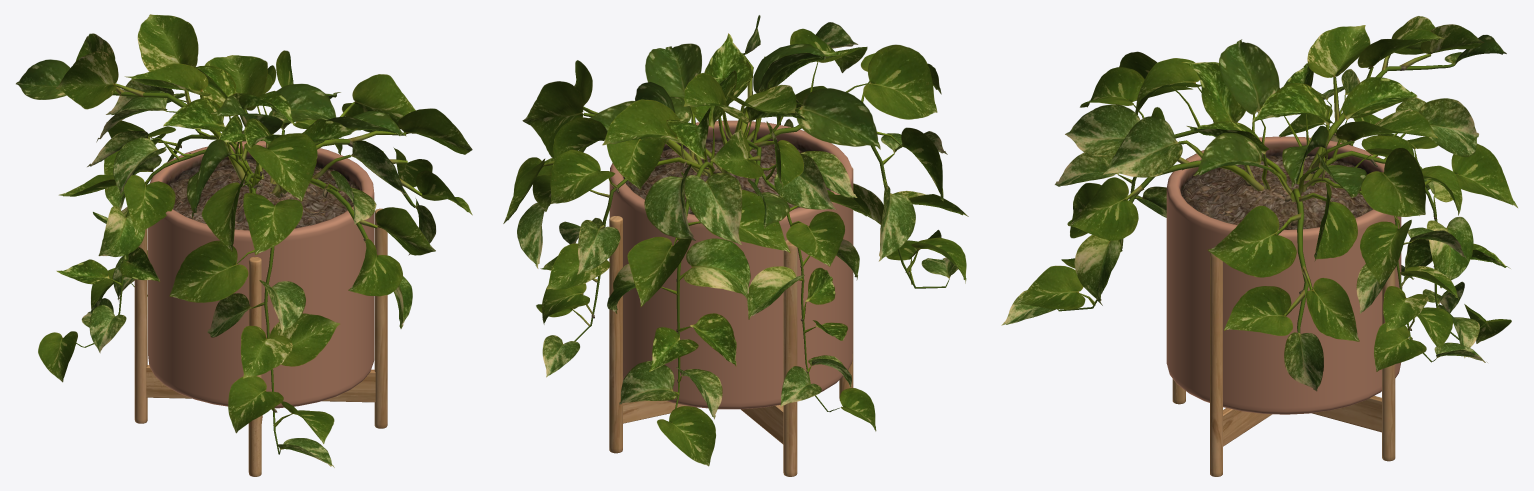
The model's file is pothos_plant.glb.
3 views of the same model, side by side, from view 1: azimuth 30°, elevation 25°; view 2: azimuth 150°, elevation 25°; view 3: azimuth 270°, elevation 25° (orthographic). The views are drawn at different scales.
Parts seen in each view (by area): view 1: POTHOS_POTHOS_Mat_0, POT_WOOD_LEGS_WOODEN_LEGS_POT_0; view 2: POTHOS_POTHOS_Mat_0, POT_WOOD_LEGS_WOODEN_LEGS_POT_0; view 3: POTHOS_POTHOS_Mat_0, POT_WOOD_LEGS_WOODEN_LEGS_POT_0.
Part boxes in pixels (x1=…): POTHOS_POTHOS_Mat_0: x1=16, y1=14, x2=472, y2=467; POT_WOOD_LEGS_WOODEN_LEGS_POT_0: x1=134, y1=141, x2=387, y2=476; POTHOS_POTHOS_Mat_0: x1=503, y1=15, x2=968, y2=466; POT_WOOD_LEGS_WOODEN_LEGS_POT_0: x1=609, y1=120, x2=853, y2=476; POTHOS_POTHOS_Mat_0: x1=1001, y1=16, x2=1517, y2=391; POT_WOOD_LEGS_WOODEN_LEGS_POT_0: x1=1166, y1=136, x2=1401, y2=476.
Size of the model in its own units: 0.8265 by 0.7916 by 0.9741.
2 materials, 2 textured.
